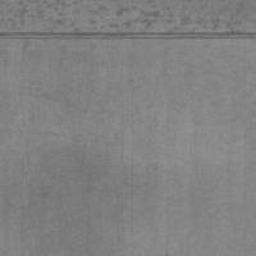Welding line: (0, 29, 256, 41)
